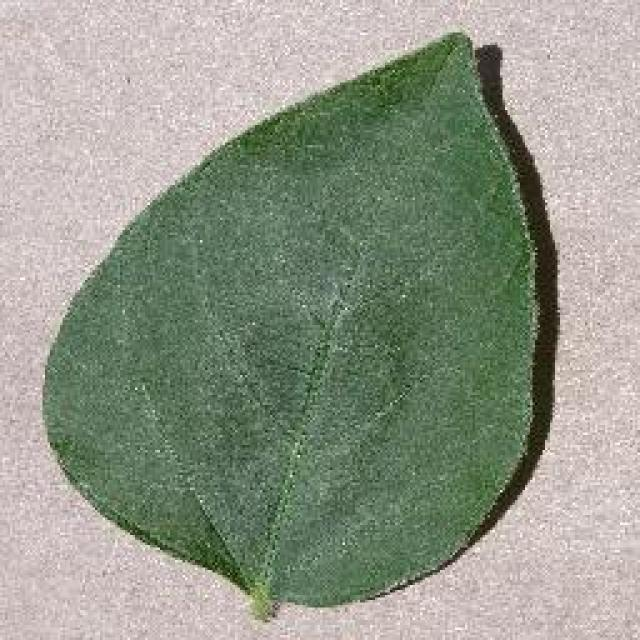Soy_healthy: (72, 58, 546, 560)
